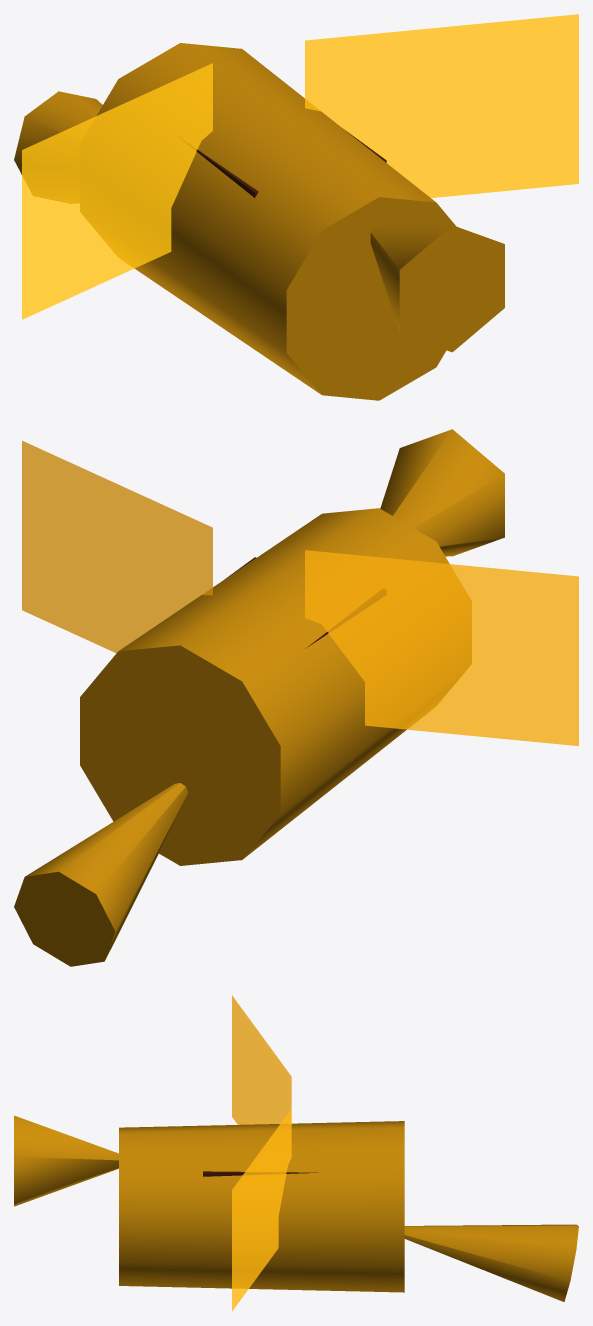
Rendered from mount_dinorant.glb.
3 views of the same model, one above another, from view 1: azimuth 30°, elevation 25°; view 2: azimuth 150°, elevation 25°; view 3: azimuth 270°, elevation 25° (orthographic). The views are drawn at different scales.
Visible parts, largest first — view 1: MOUNT_DINORANT; view 2: MOUNT_DINORANT; view 3: MOUNT_DINORANT.
Part boxes in pixels (x1,y1,x2,y2): MOUNT_DINORANT: (14, 14, 578, 400); MOUNT_DINORANT: (14, 429, 578, 966); MOUNT_DINORANT: (14, 995, 578, 1311).
Bounding box in the file's own units: 2.75 × 1.37 × 3.36.
